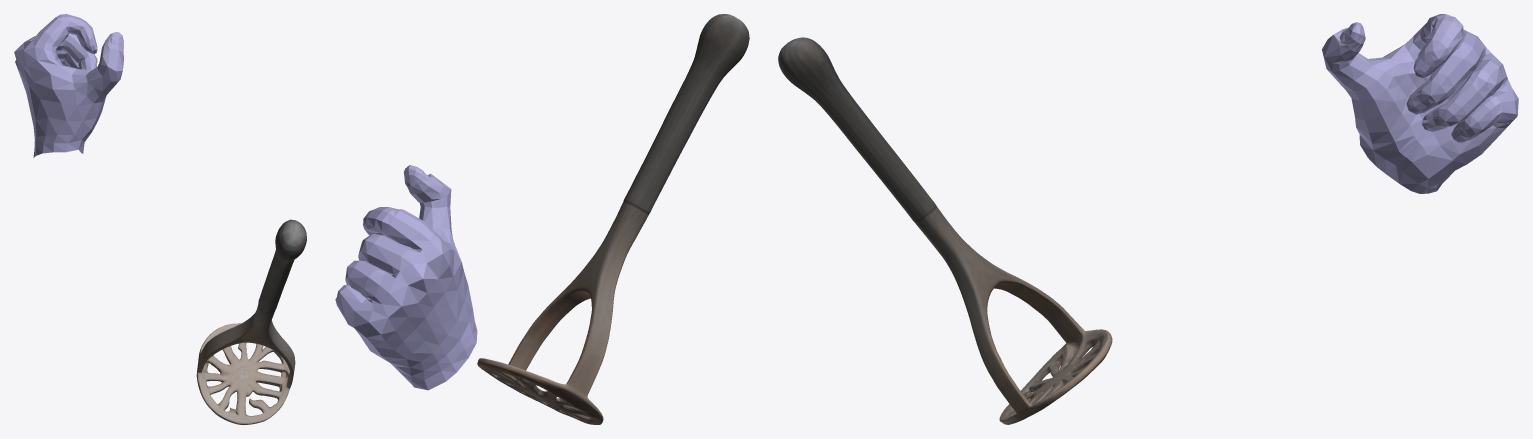
File: frame_0007_source_000007_hand_object.glb
3 renders of one model, left to right at view 1: azimuth 30°, elevation 25°; view 2: azimuth 150°, elevation 25°; view 3: azimuth 270°, elevation 25°, orthographic. The views are drawn at different scales.
Visible parts, largest first — view 1: world; view 2: world; view 3: world.
Boxes of the visible parts, box(x1,y1,x2,y2) form: world: box(14, 14, 306, 424); world: box(335, 14, 749, 424); world: box(778, 14, 1518, 424).
Size of the model in its own units: 0.1042 by 0.2469 by 0.4243.
